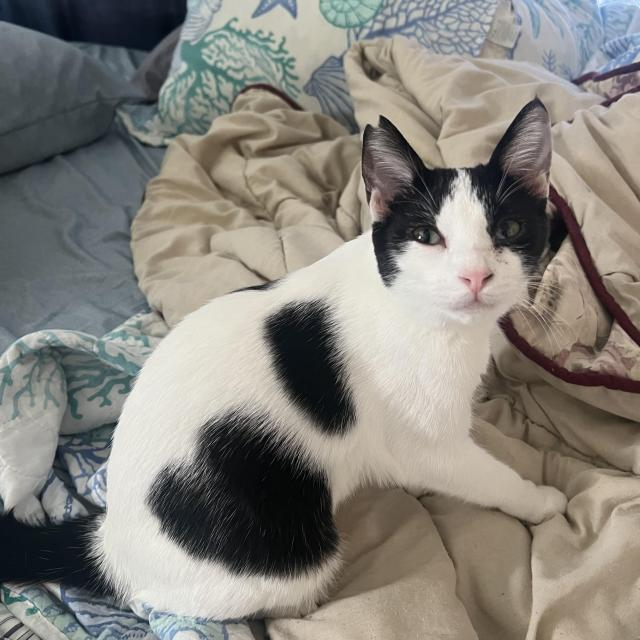domestic_short_hair_cat: (330, 90, 581, 406)
